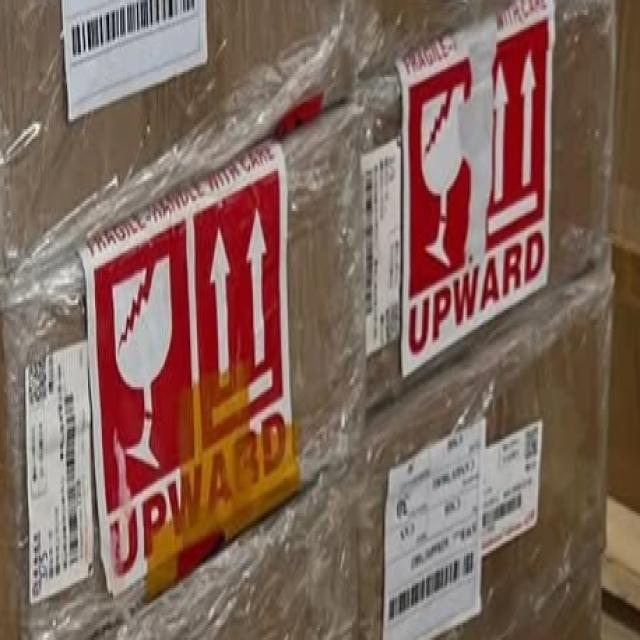carton_box: (7, 117, 359, 640), (354, 5, 615, 416), (342, 278, 638, 640), (0, 0, 357, 261)
export_mark_label: (14, 350, 117, 598), (378, 429, 491, 640), (348, 134, 413, 383), (480, 417, 552, 557)
fragile_label: (400, 58, 482, 324), (96, 260, 191, 484)
this_side_up_label: (188, 209, 309, 431), (481, 27, 566, 255)
